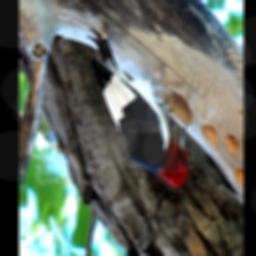Woodpecker: (87, 17, 190, 188)
